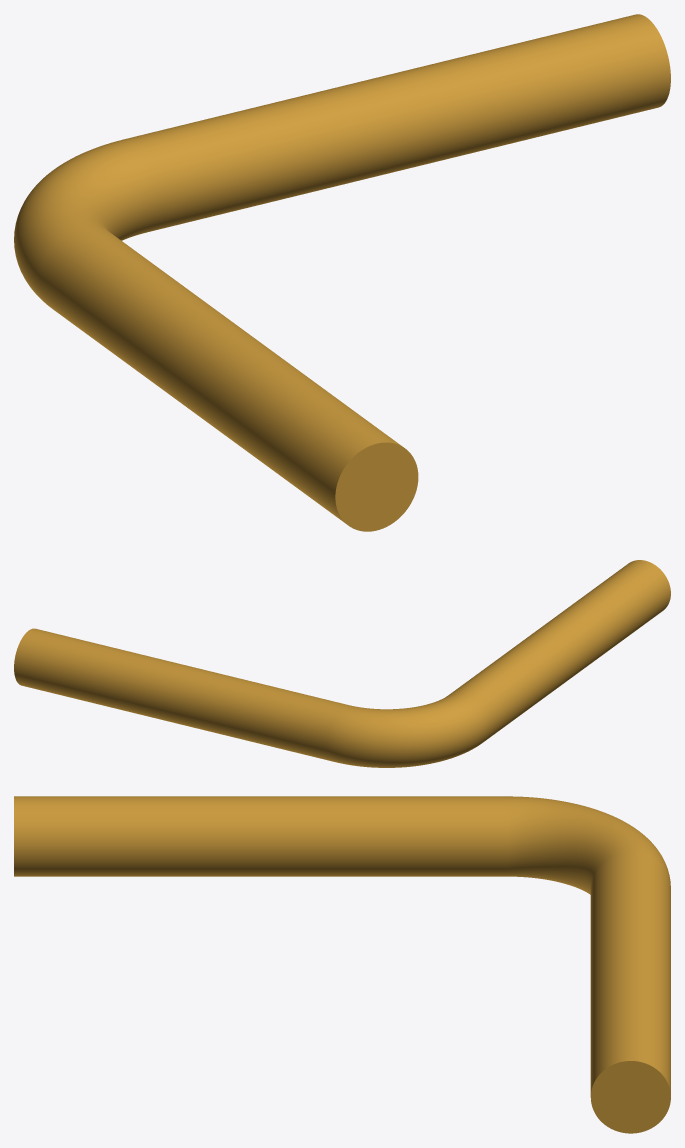
Rendered from WIRE10X10.obj.
The picture shows the model from 3 angles, top to bottom: view 1: azimuth 30°, elevation 25°; view 2: azimuth 150°, elevation 25°; view 3: azimuth 270°, elevation 25°; orthographic projection. The views are drawn at different scales.
Parts seen in each view (by area): view 1: Solid1; view 2: Solid1; view 3: Solid1.
Boxes of the visible parts, x1,y1,x2,y2 form: Solid1: [14, 14, 670, 531]; Solid1: [14, 560, 670, 767]; Solid1: [14, 796, 670, 1133].
Bounding box in the file's own units: 10.65 × 1.3 × 10.65.
